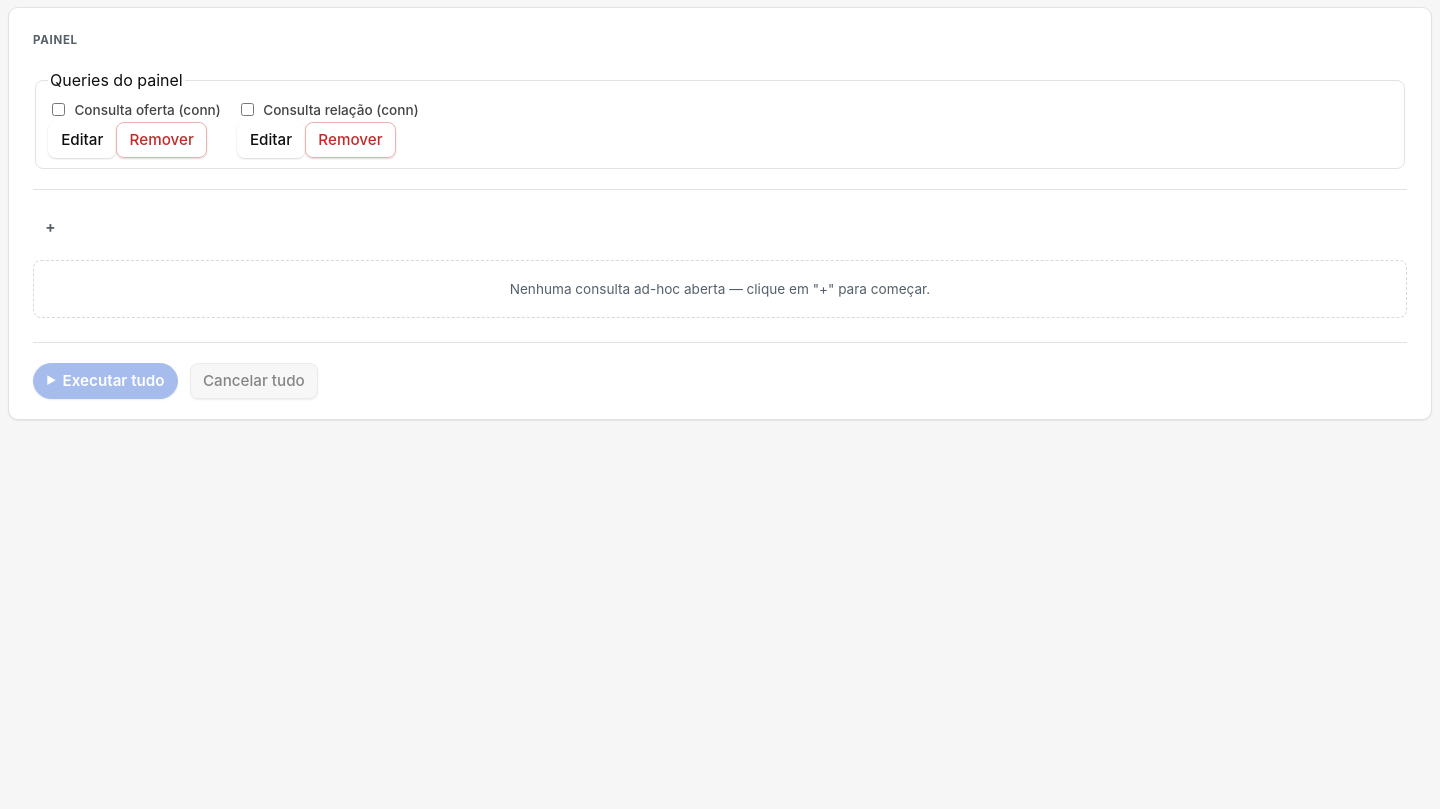
Board › shows one query's error without blocking the other's result
Click the checkbox labelled "Consulta oferta (conn)".
click(58, 110)  # box [52,103,65,116]
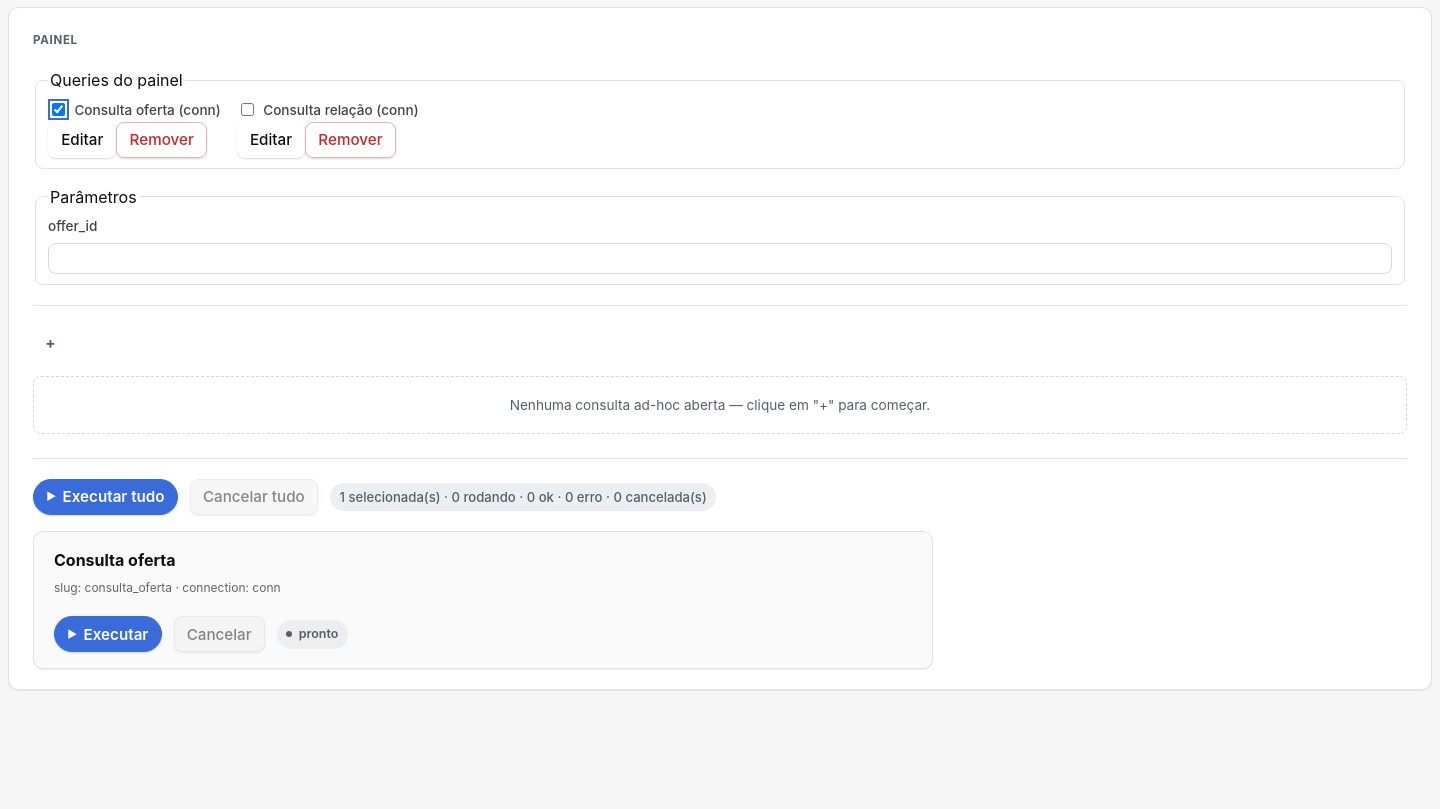
Click the checkbox labelled "Consulta relação (conn)".
click(247, 110)  # box [241,103,254,116]
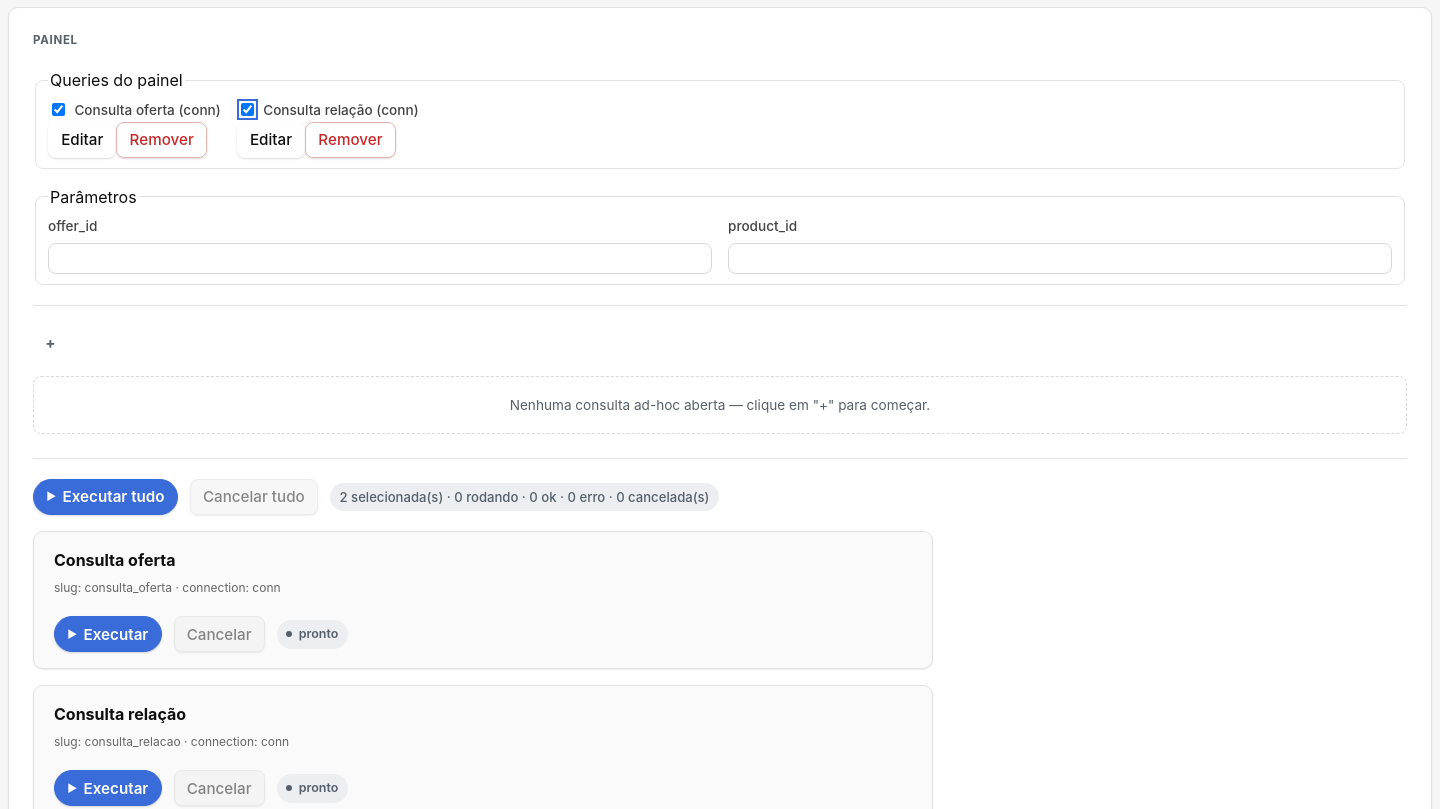
Type "5001" into the field labelled "offer_id".
click(380, 259); type("5001")  # box [48,243,712,274]
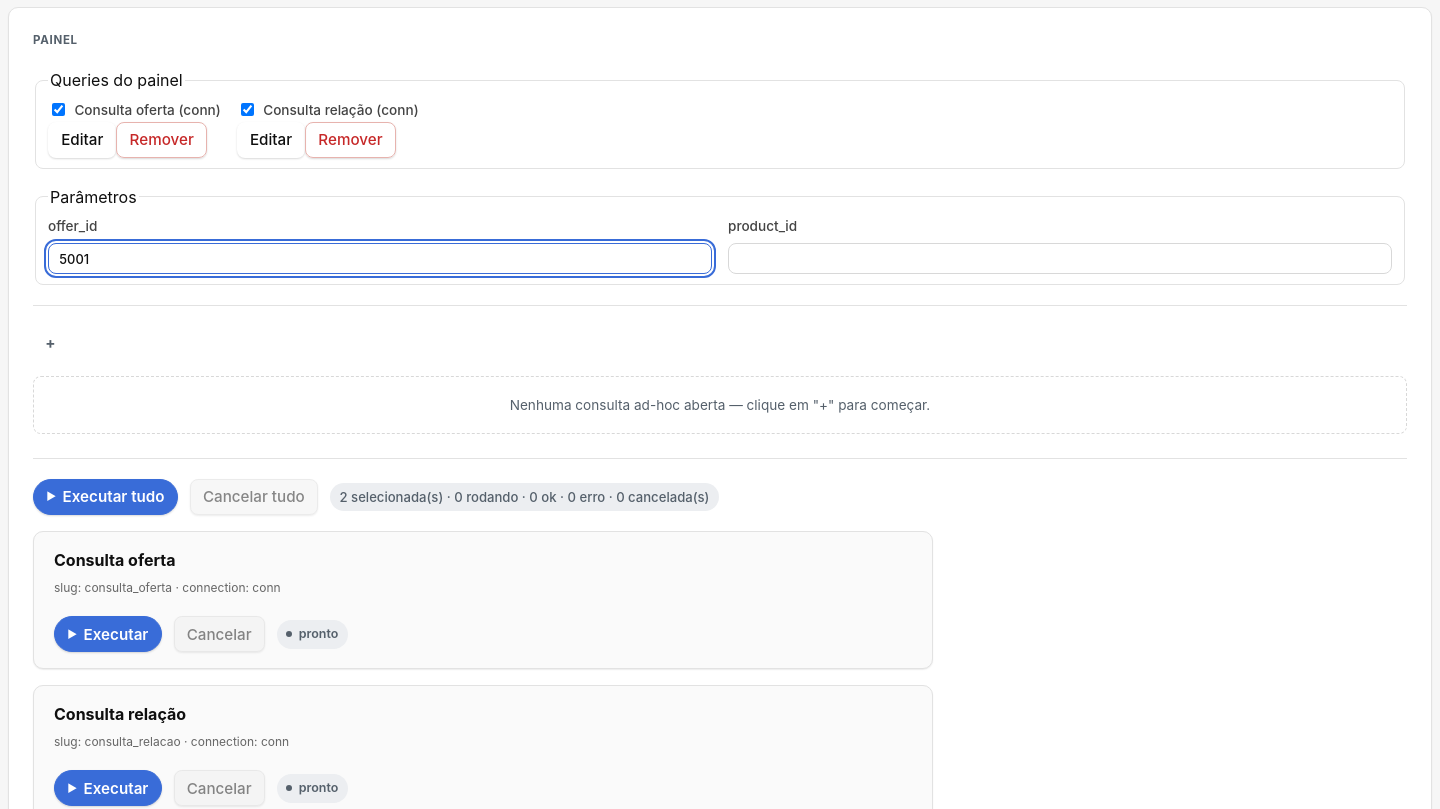
Type "1" into the field labelled "product_id".
click(1060, 259); type("1")  # box [728,243,1392,274]
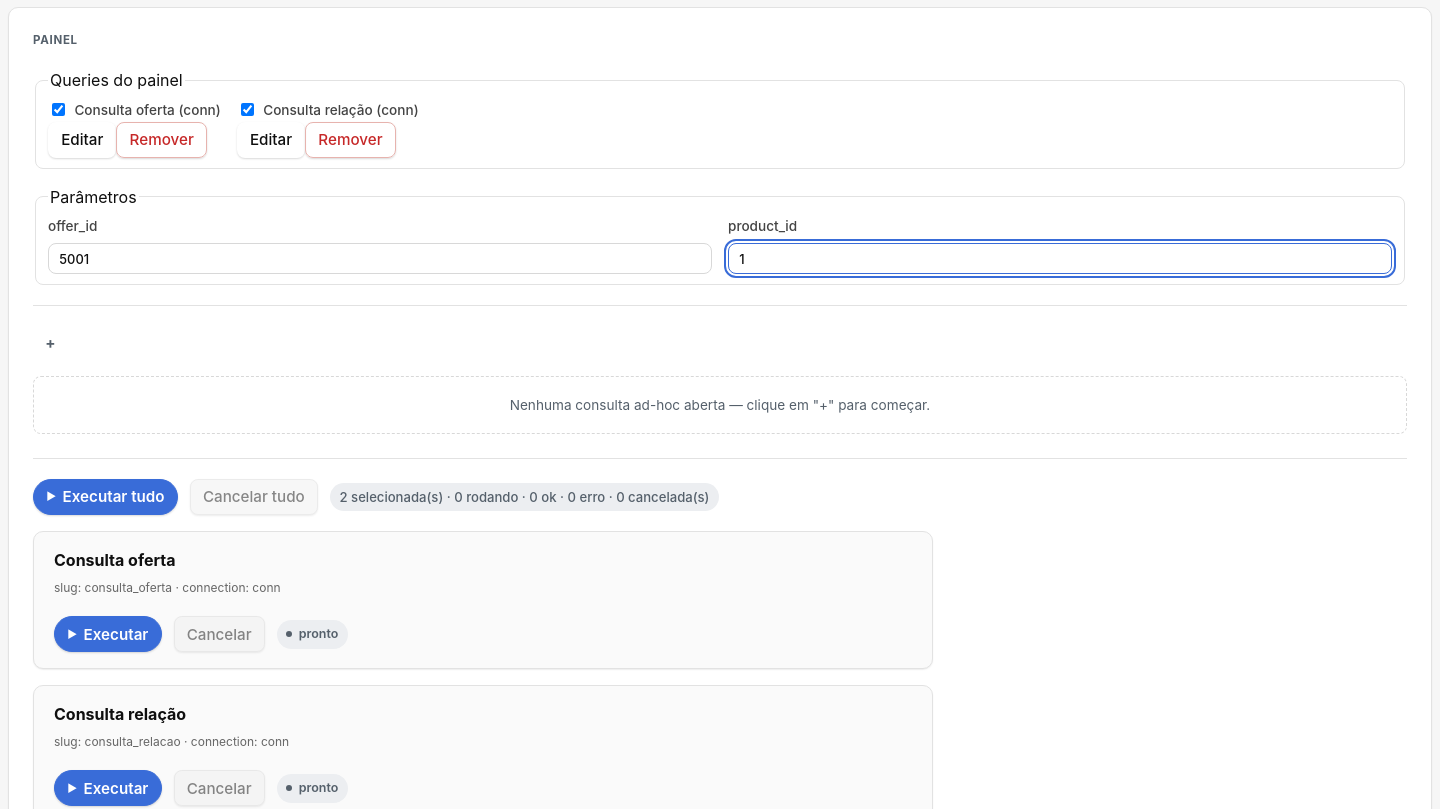
Click the button "▶ Executar tudo".
click(105, 497)  # box [33,479,178,515]
(page scrolled)
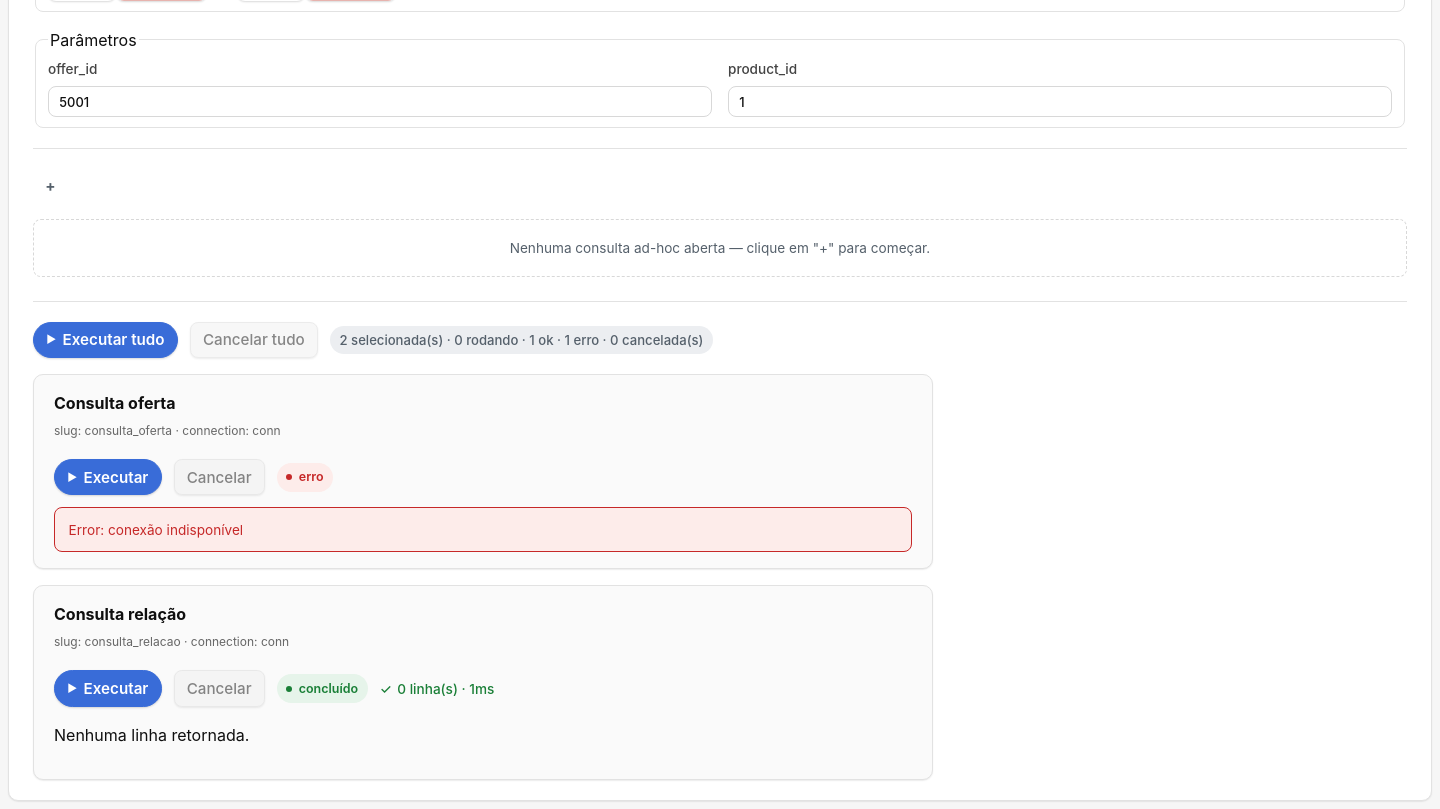
Now the message "Error: conexão indisponível" is shown, box [54,507,912,552]
Now the text "Nenhuma linha retornada." is shown, box [54,725,249,745]
